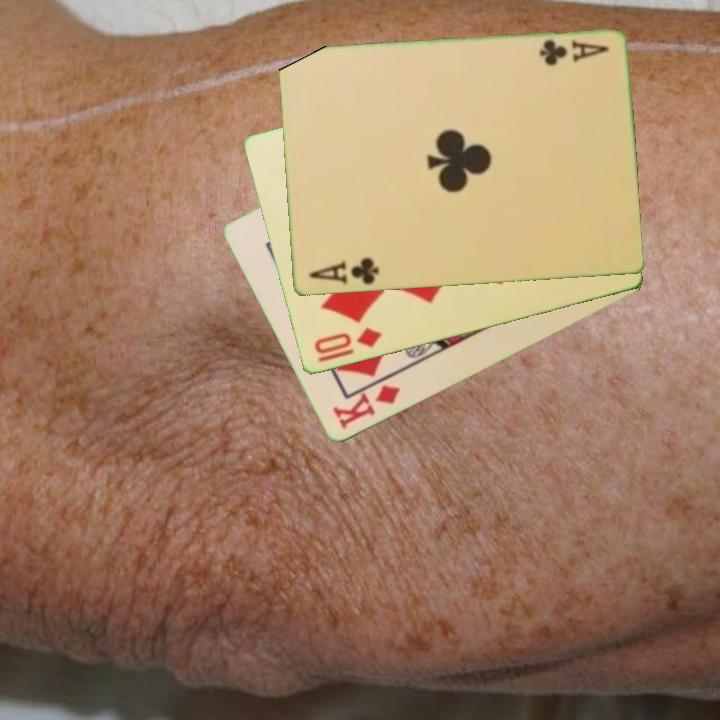10d: (310, 324, 385, 358)
Ac: (304, 254, 382, 288), (536, 37, 611, 69)
Kd: (329, 382, 403, 433)
